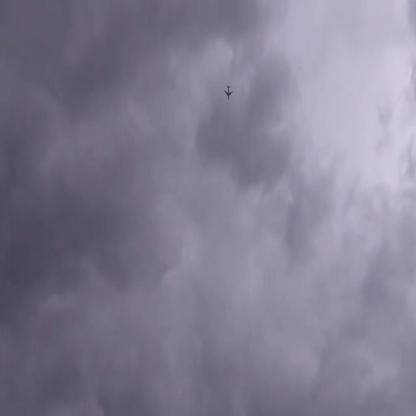plane: (223, 85, 233, 100)
